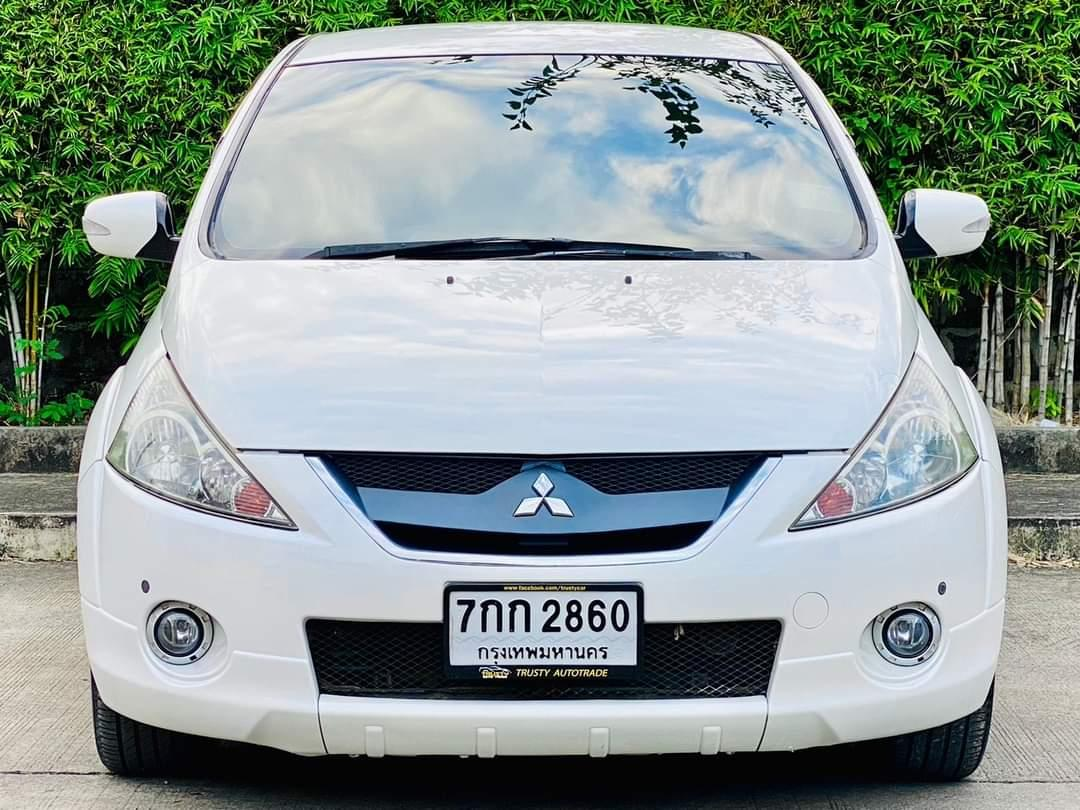license-plate: (440, 579, 644, 682)
